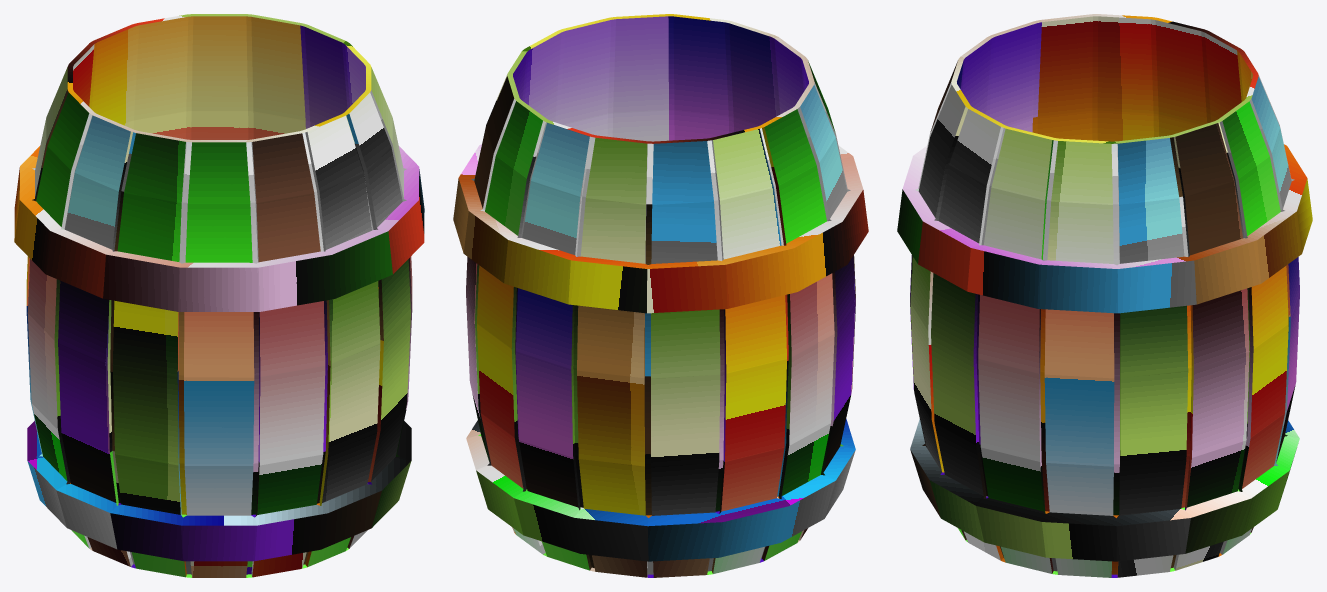
Rendered from torso.glb.
3 views of the same model, side by side, from view 1: azimuth 30°, elevation 25°; view 2: azimuth 150°, elevation 25°; view 3: azimuth 270°, elevation 25° (orthographic).
Parts seen in each view (by area): view 1: beczka.001; view 2: beczka.001; view 3: beczka.001.
Boxes of the visible parts, x1,y1,x2,y2 form: beczka.001: [14, 14, 424, 577]; beczka.001: [453, 14, 868, 577]; beczka.001: [897, 14, 1312, 577].
Size of the model in its own units: 0.5845 by 0.6735 by 0.5845.
1 material, 1 textured.
